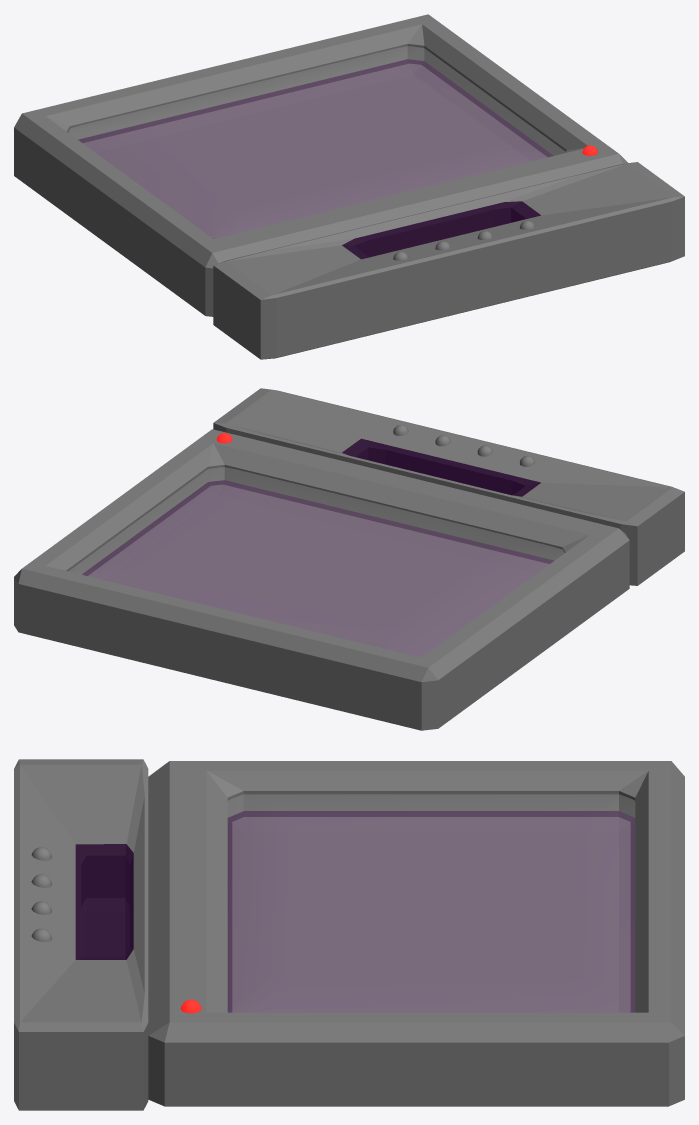
Rendered from level_television.glb.
3 renders of one model, top to bottom at view 1: azimuth 30°, elevation 25°; view 2: azimuth 150°, elevation 25°; view 3: azimuth 270°, elevation 25°, orthographic. The views are drawn at different scales.
Visible parts, largest first — view 1: TV Frame, Glass, TV Bottom; view 2: TV Frame, Glass, TV Bottom; view 3: TV Frame, Glass, TV Bottom.
Boxes of the visible parts, x1,y1,x2,y2 form: TV Frame: (14, 14, 627, 316); Glass: (68, 46, 564, 237); TV Bottom: (213, 162, 684, 359); TV Frame: (14, 429, 629, 730); Glass: (69, 467, 563, 657); TV Bottom: (213, 388, 684, 585); TV Frame: (148, 761, 684, 1106); Glass: (228, 794, 634, 1012); TV Bottom: (14, 759, 148, 1110).
Size of what is drawn, in the model's own units: 60.34 by 9.75 by 62.75.
